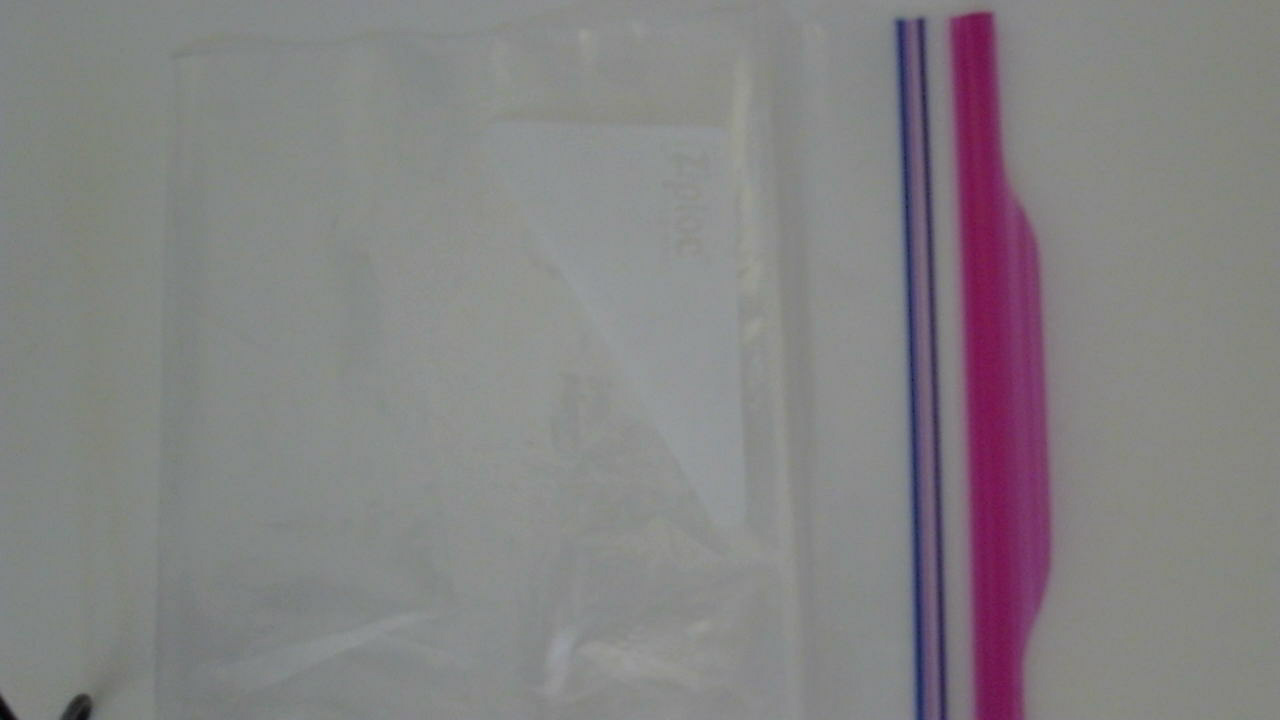Plastic Bag: (143, 8, 1075, 720)
